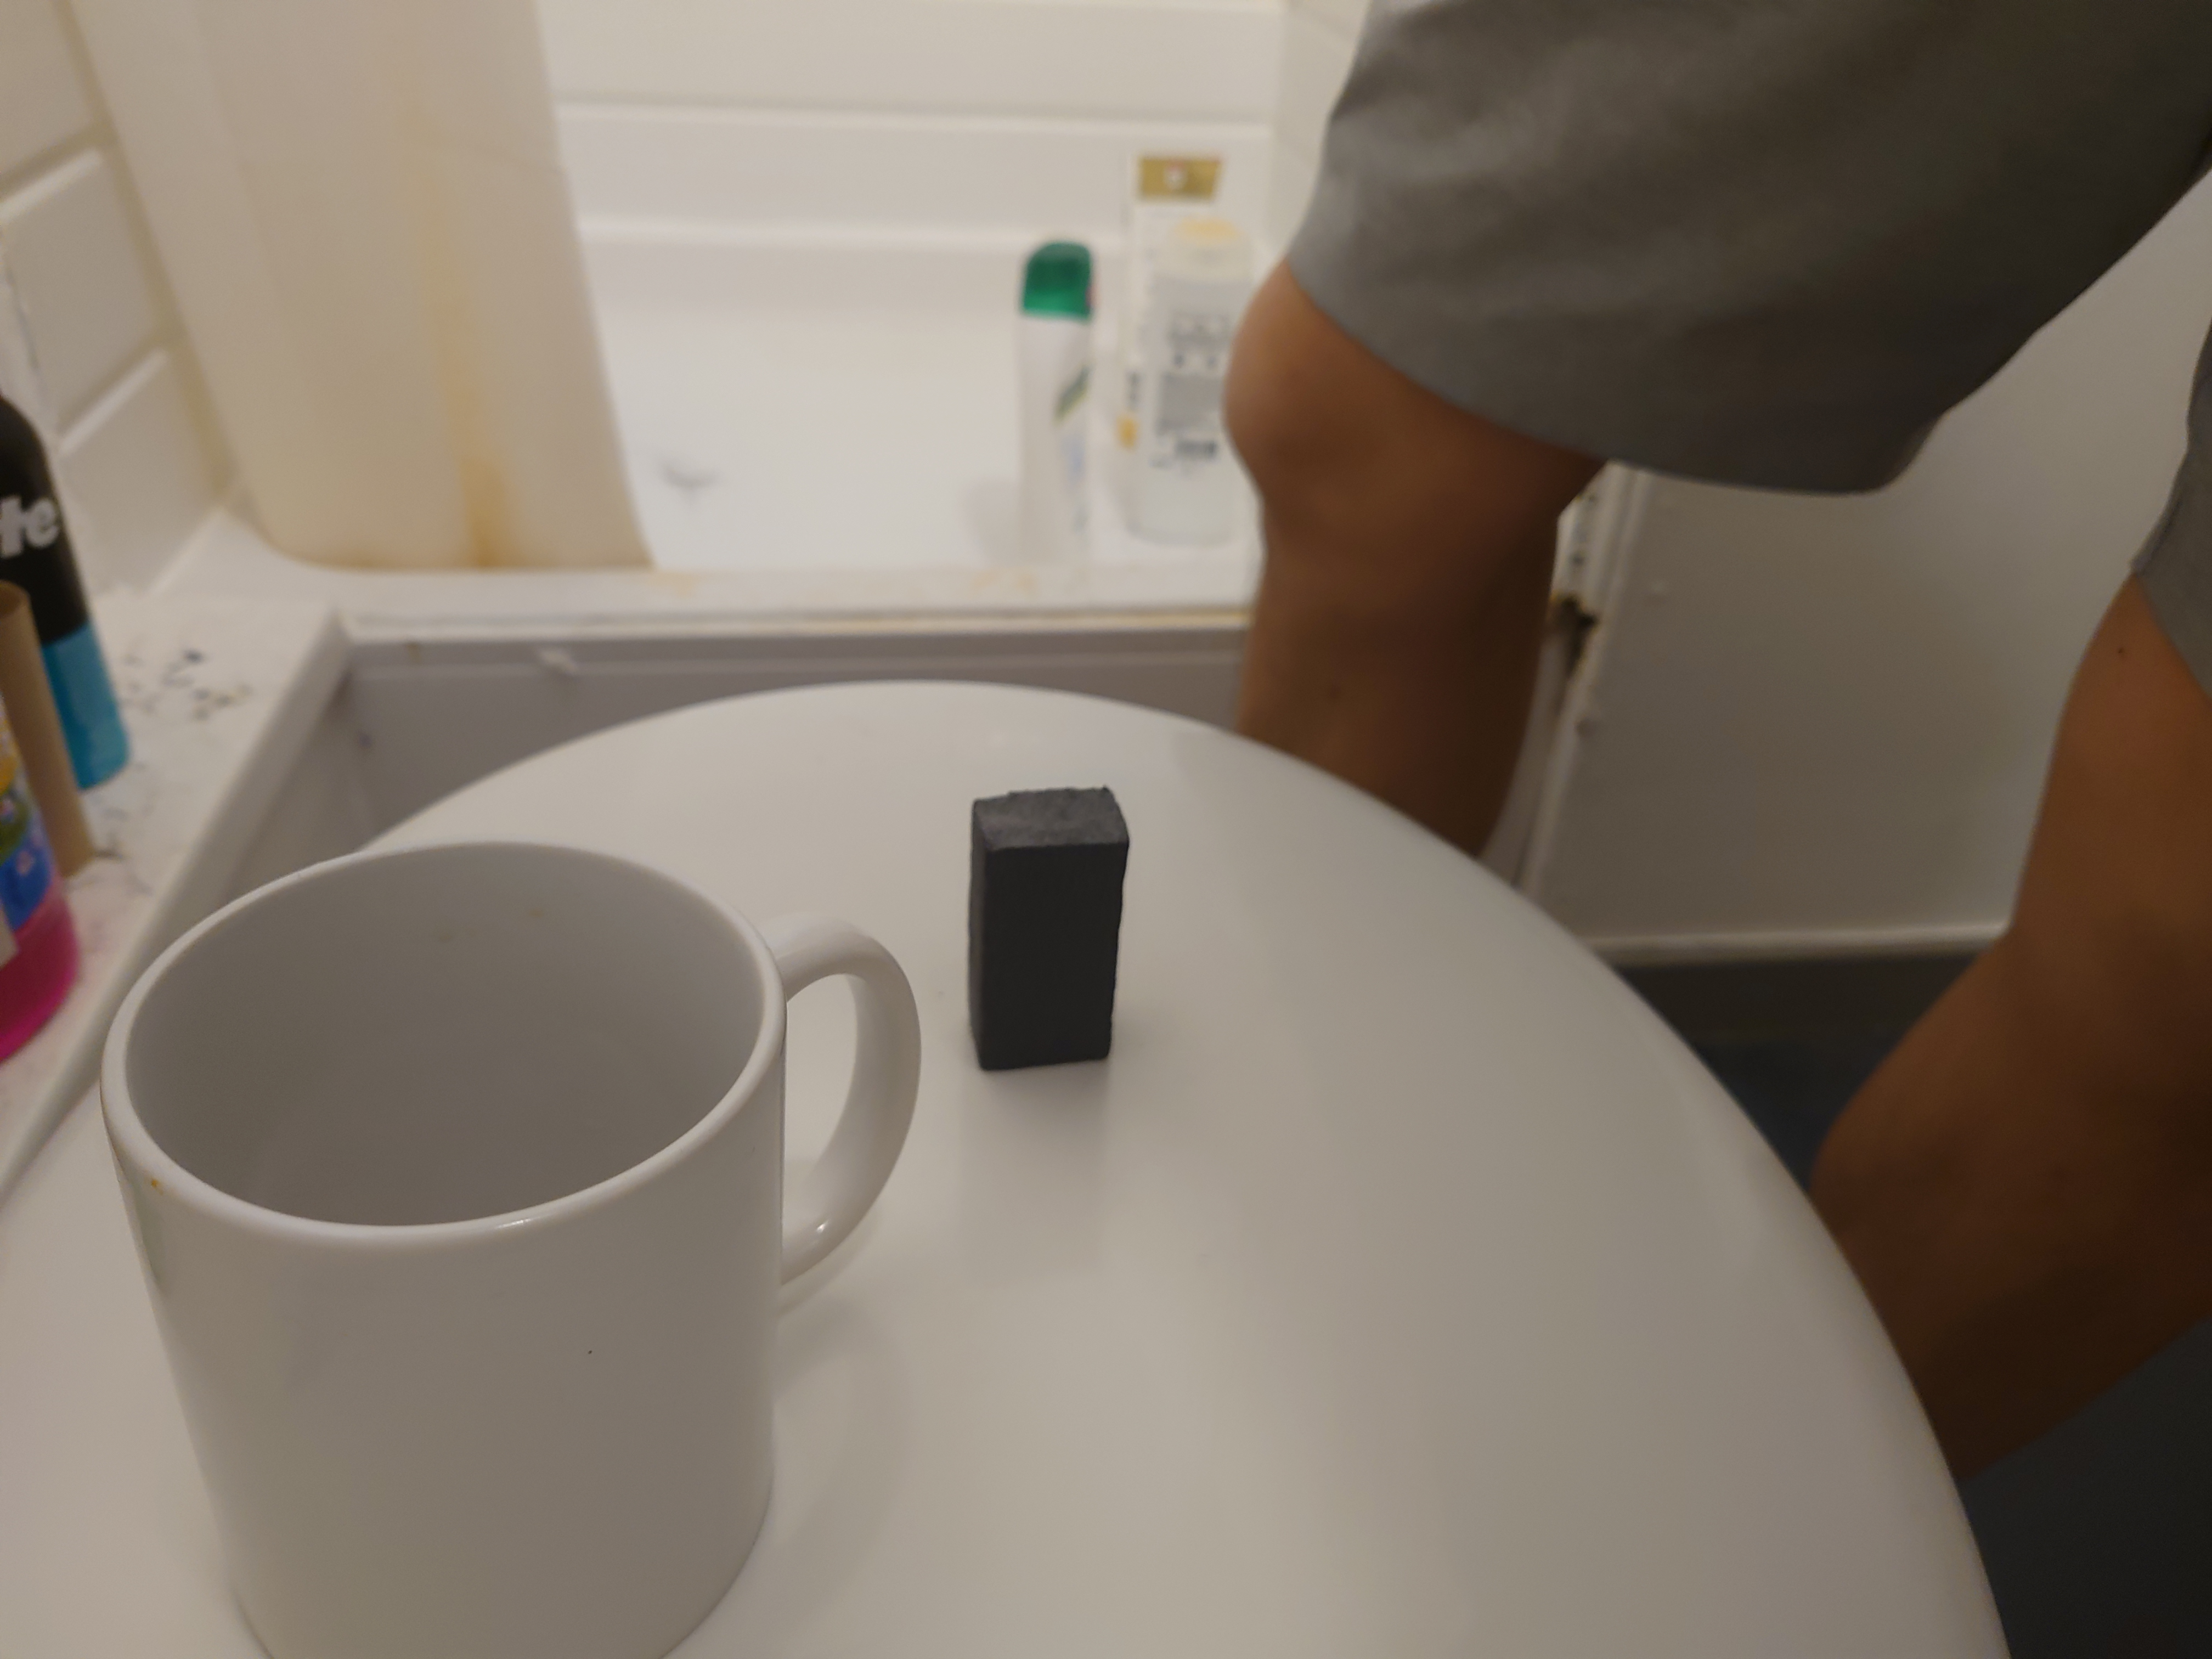cup: (94, 836, 930, 1659)
target: (956, 781, 1129, 1073)
